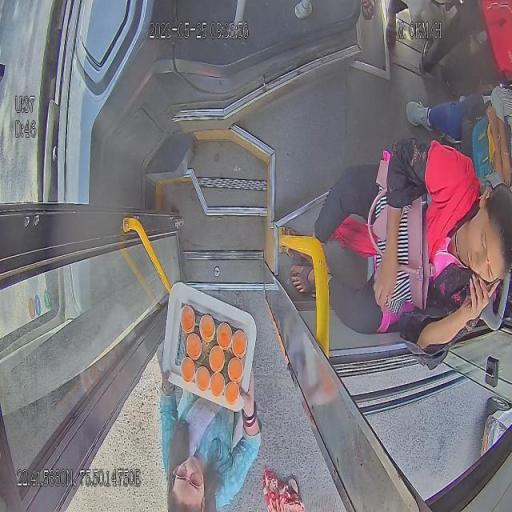persona: (282, 136, 512, 368), (156, 338, 262, 511), (405, 84, 512, 186)
